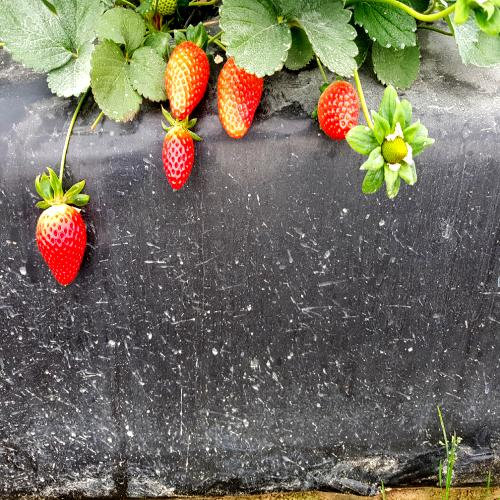ripe: (31, 200, 91, 292), (215, 43, 264, 140), (163, 34, 210, 127), (315, 78, 363, 147), (160, 130, 200, 190)
